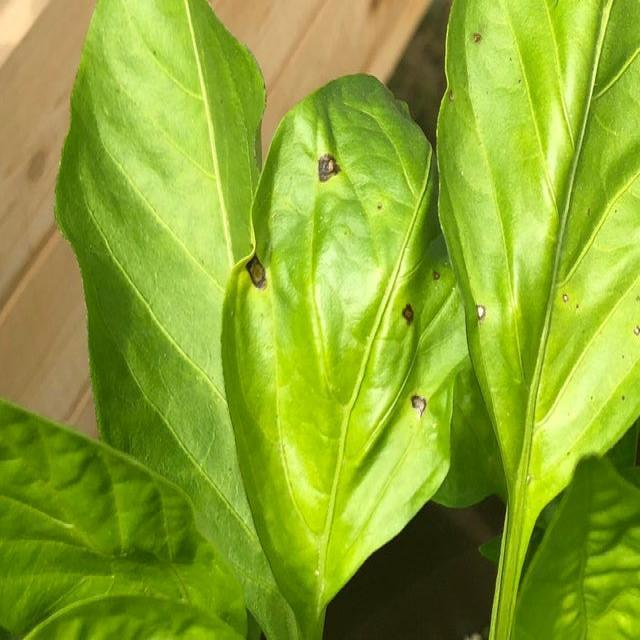Bacterial Spot: (308, 146, 344, 192), (246, 252, 276, 298), (424, 252, 448, 296), (404, 385, 431, 423), (395, 300, 422, 332)
